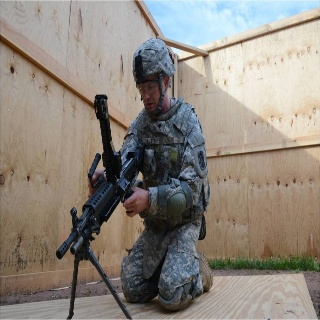rifle: (55, 94, 143, 320)
